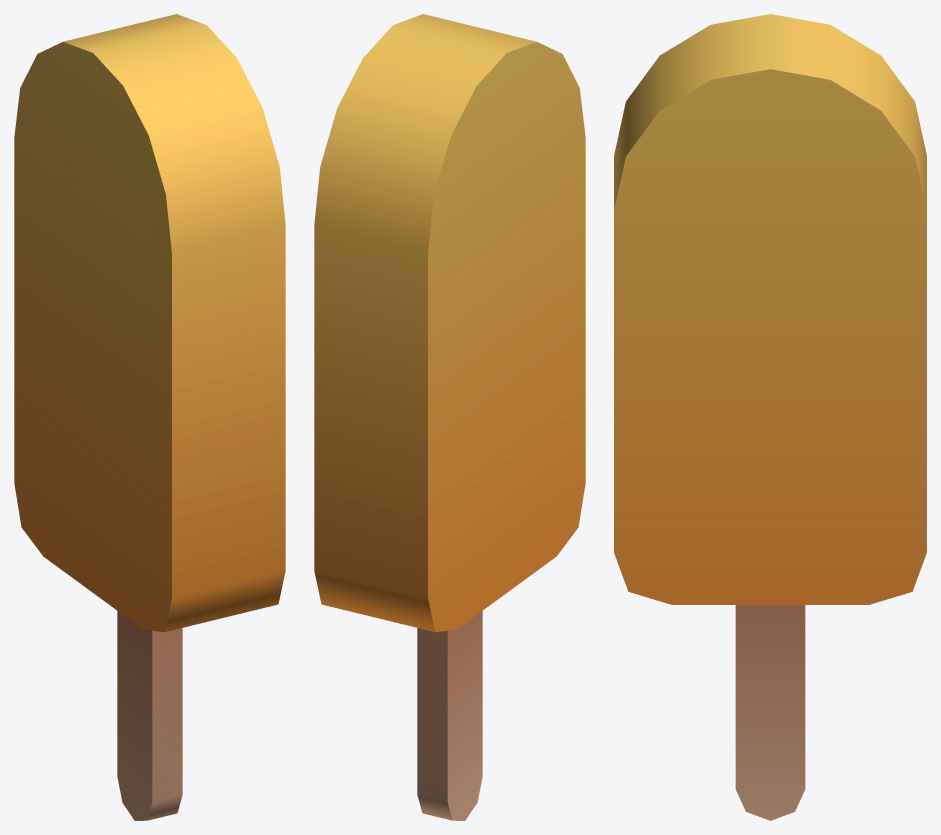
File: popsicle.obj
The picture shows the model from 3 angles, left to right: view 1: azimuth 30°, elevation 25°; view 2: azimuth 150°, elevation 25°; view 3: azimuth 270°, elevation 25°; orthographic projection.
Parts seen in each view (by area): view 1: popsicle; view 2: popsicle; view 3: popsicle.
Boxes of the visible parts, x1=… form: popsicle: x1=14, y1=14, x2=285, y2=820; popsicle: x1=314, y1=14, x2=585, y2=820; popsicle: x1=614, y1=14, x2=926, y2=820.
Size of the model in its own units: 0.075 by 0.49 by 0.18.
1 material, 1 textured.
